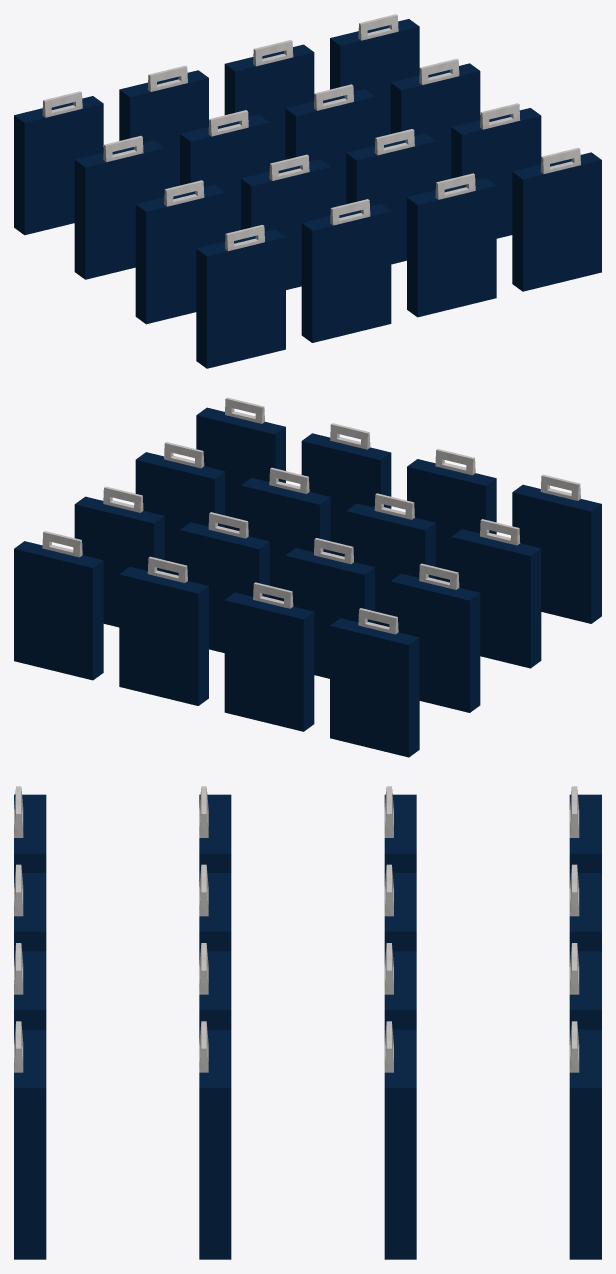
File: ElectronicBlack_Item.fbx
3 renders of one model, top to bottom at view 1: azimuth 30°, elevation 25°; view 2: azimuth 150°, elevation 25°; view 3: azimuth 270°, elevation 25°, orthographic. The views are drawn at different scales.
Visible parts, largest first — view 1: electronicBlack__item37; view 2: electronicBlack__item37; view 3: electronicBlack__item37.
Boxes of the visible parts, x1,y1,x2,y2 form: electronicBlack__item37: [14, 14, 601, 368]; electronicBlack__item37: [14, 397, 601, 757]; electronicBlack__item37: [14, 786, 601, 1259].
Bounding box in the file's own units: 75.03 × 23.26 × 63.48.
